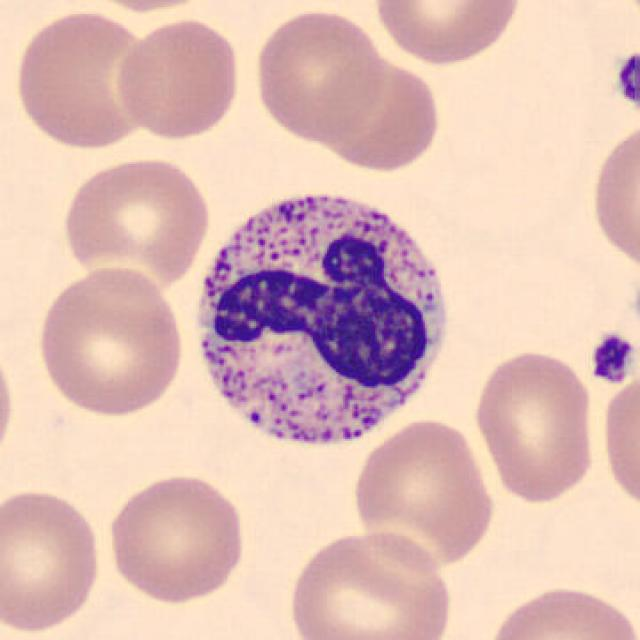Neutrophil: (185, 176, 462, 469)
Platelets: (586, 330, 636, 386), (611, 45, 640, 114)
RBC: (32, 262, 188, 420), (348, 414, 499, 573), (11, 7, 160, 152), (59, 152, 213, 292), (469, 346, 599, 506), (103, 469, 251, 606), (283, 527, 457, 640), (251, 5, 389, 145), (112, 14, 244, 141), (313, 51, 444, 176), (0, 483, 105, 637), (370, 0, 524, 67), (482, 580, 638, 640), (587, 115, 638, 276), (597, 366, 640, 516), (0, 333, 20, 476), (74, 0, 226, 14)
